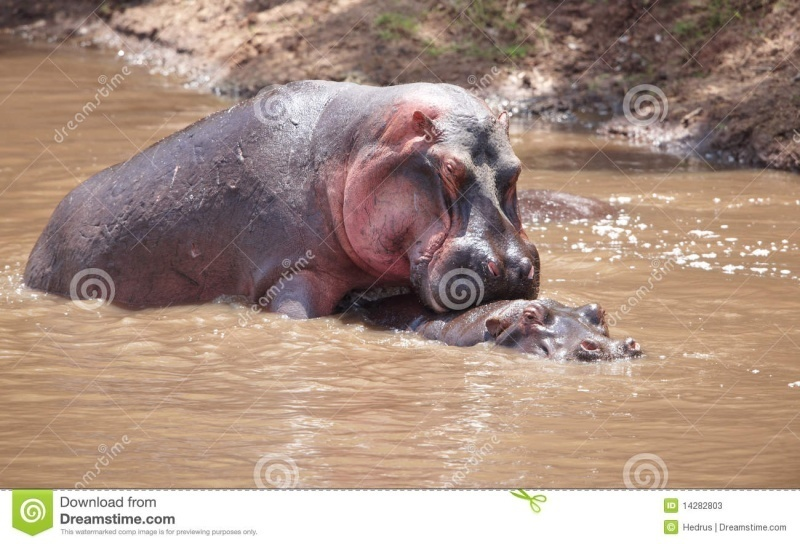hipopotamo: (34, 74, 548, 312), (382, 288, 654, 371)
